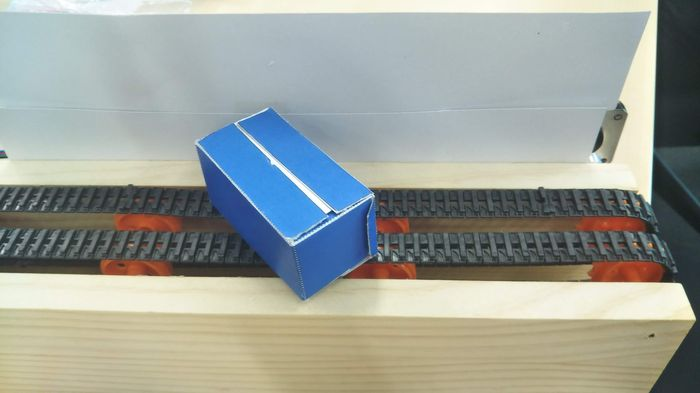box3: (186, 102, 382, 306)
